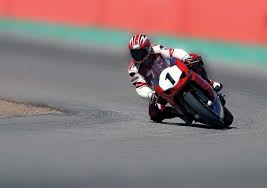motorcycle: (150, 49, 233, 121)
